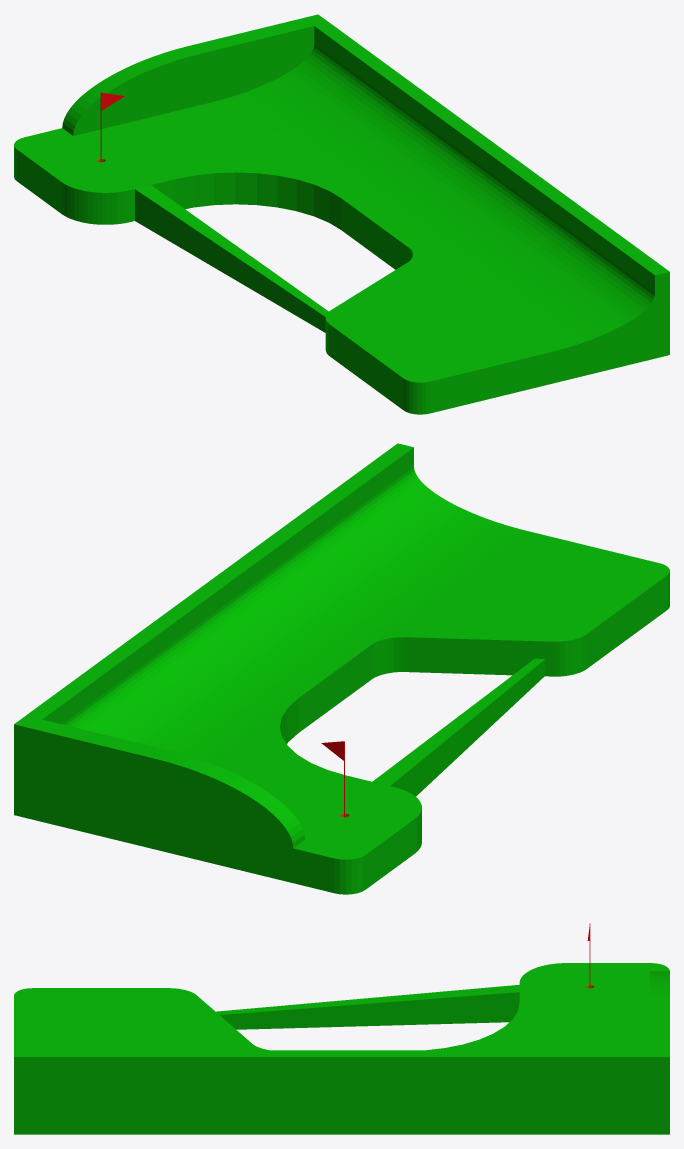
Rendered from level_3.glb.
3 renders of one model, top to bottom at view 1: azimuth 30°, elevation 25°; view 2: azimuth 150°, elevation 25°; view 3: azimuth 270°, elevation 25°, orthographic. The views are drawn at different scales.
Visible parts, largest first — view 1: green; view 2: green; view 3: green.
Part boxes in pixels (left/top/right/bottom): green: left=14, top=14, right=669, bottom=414; green: left=14, top=443, right=669, bottom=894; green: left=14, top=963, right=669, bottom=1134.
Bounding box in the file's own units: 3.92 × 1.2 × 7.67.
